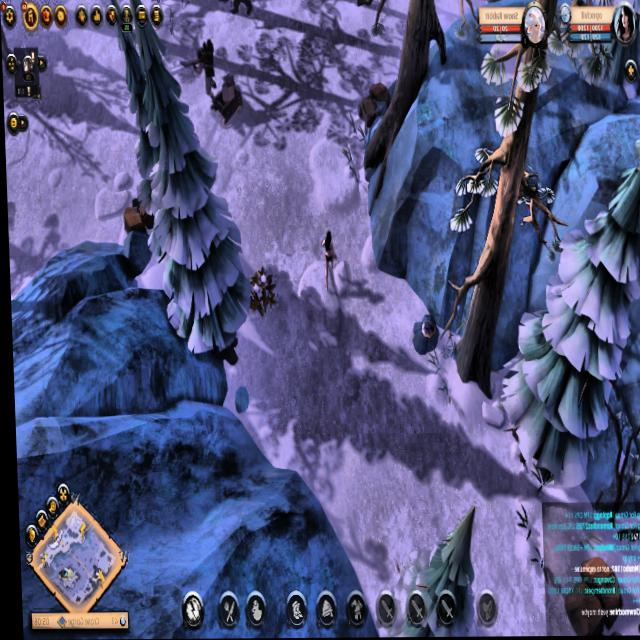copper_ore: (400, 317, 438, 358)
cotton: (238, 268, 275, 314)
limestone: (113, 200, 156, 241)
tin_ore: (188, 36, 220, 107)
